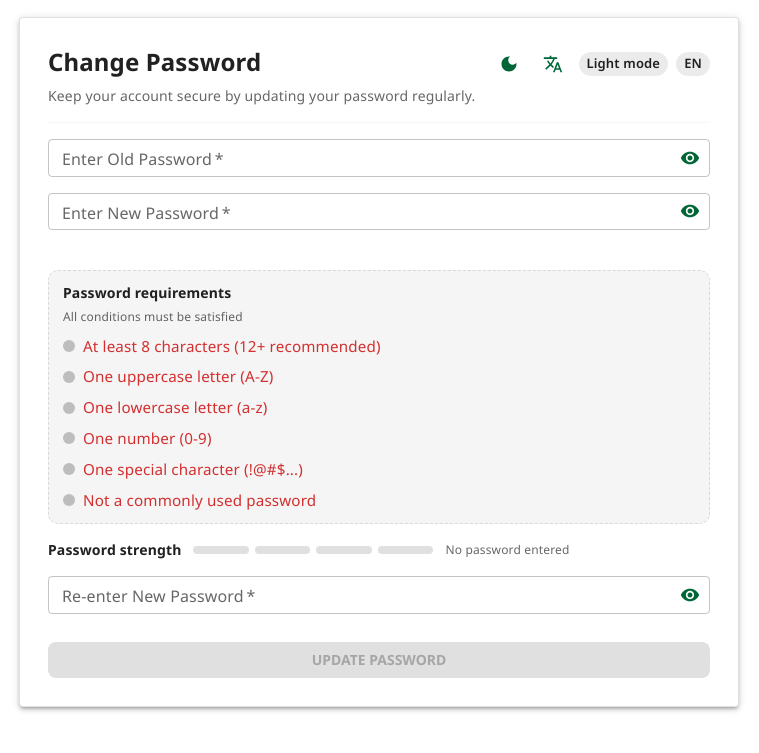
Test: ChangePasswordPage › maps old password server errors to field-level feedback
In the password field labelled "Enter Old Password *": (356, 158) [48, 139, 664, 176], type "wrong"
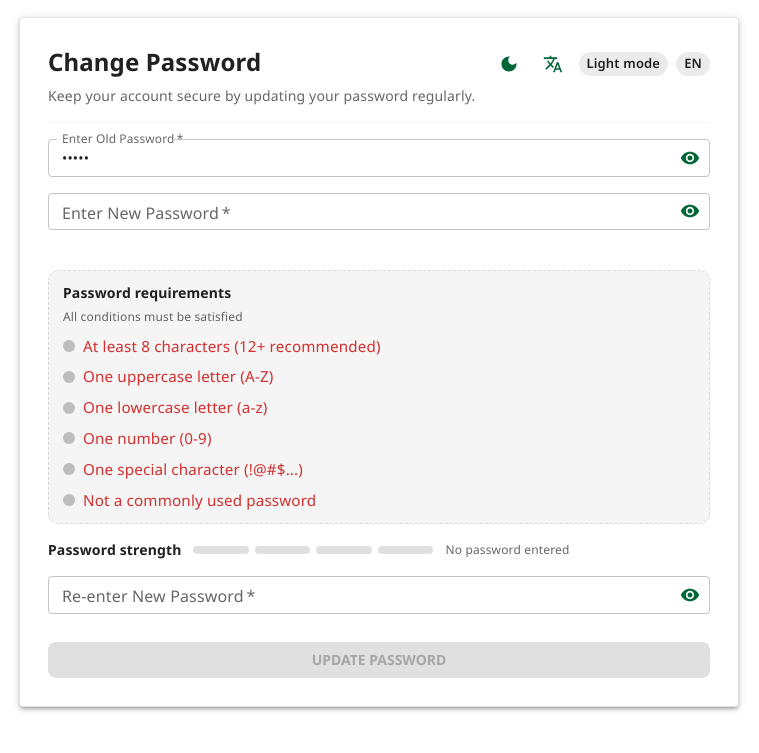
In the password field labelled "Enter New Password *": (356, 211) [48, 192, 664, 230], type "NewPass@1234"
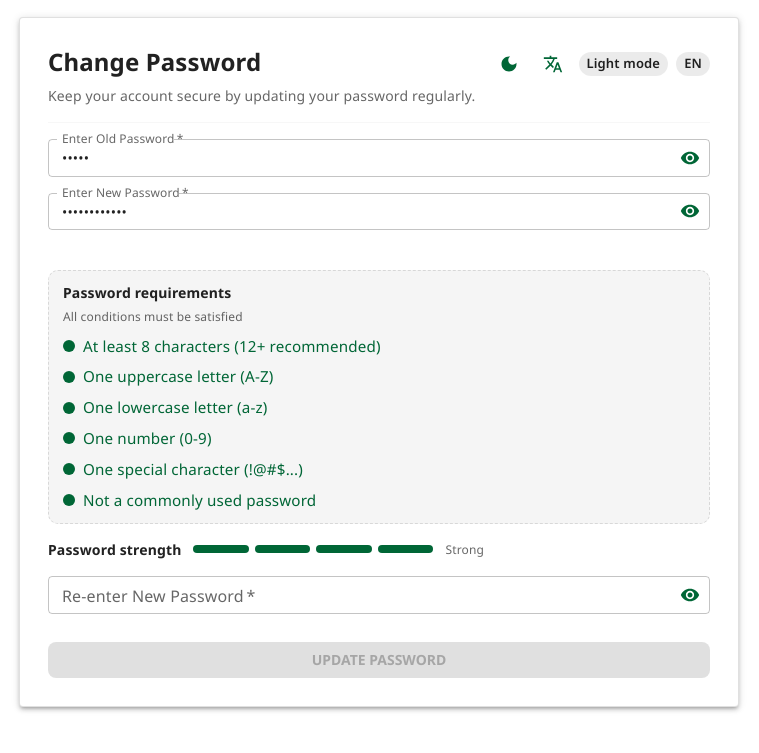
In the password field labelled "Re-enter New Password *": (356, 595) [48, 576, 664, 614], type "NewPass@1234"
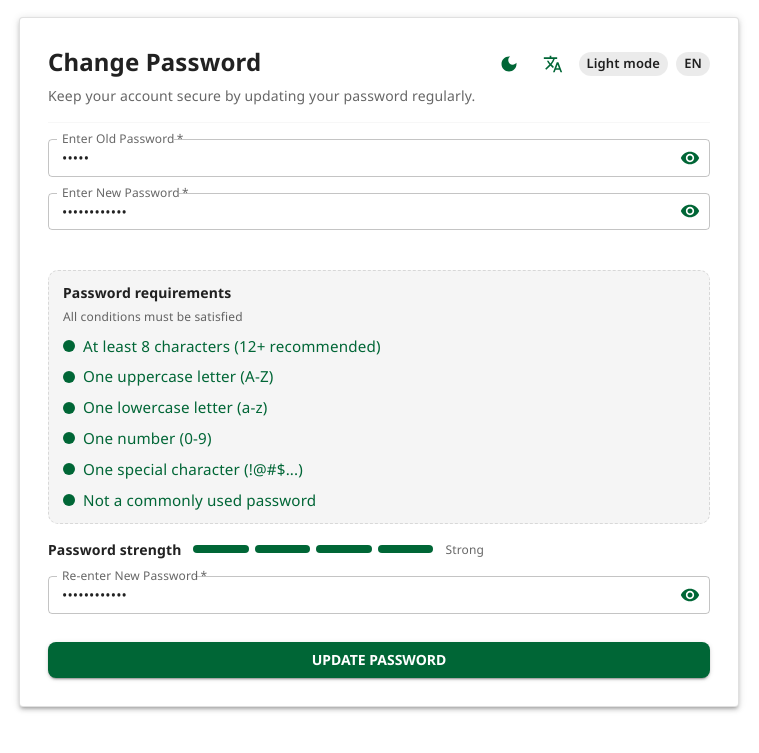
Click the button "Update Password": (379, 660) [48, 642, 710, 678]
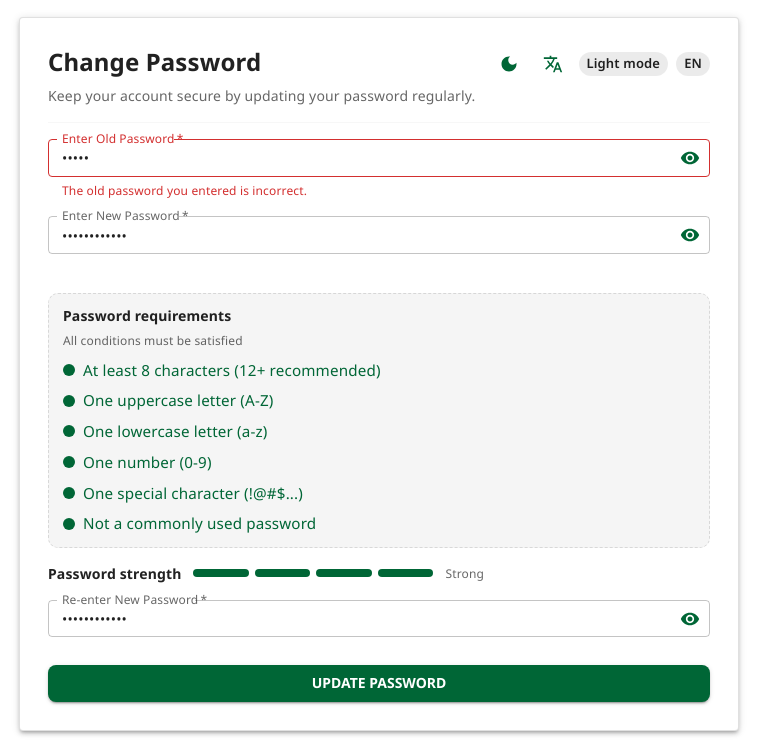
expect the text "The old password you entered is incorrect." is shown: met, box [62, 182, 307, 198]
